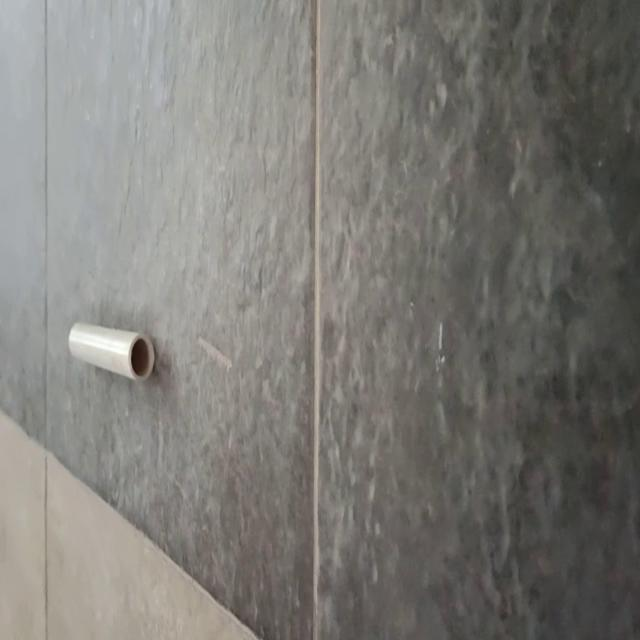Cube: (67, 320, 155, 383)
